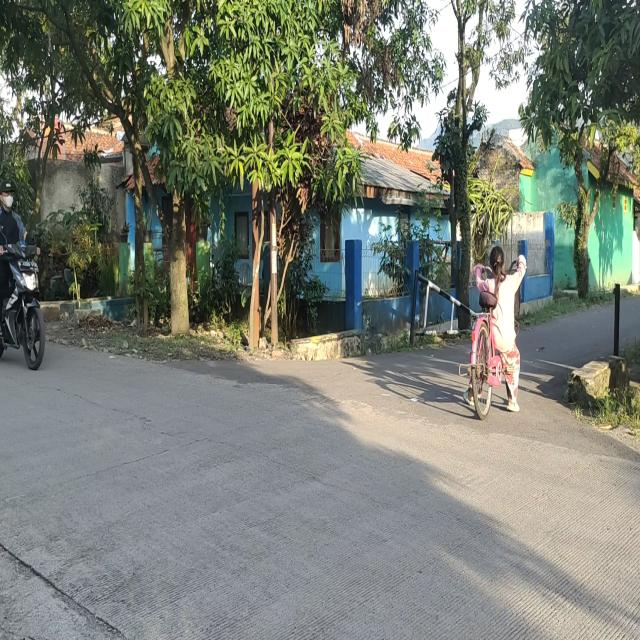no-helmet: (0, 178, 14, 210)
